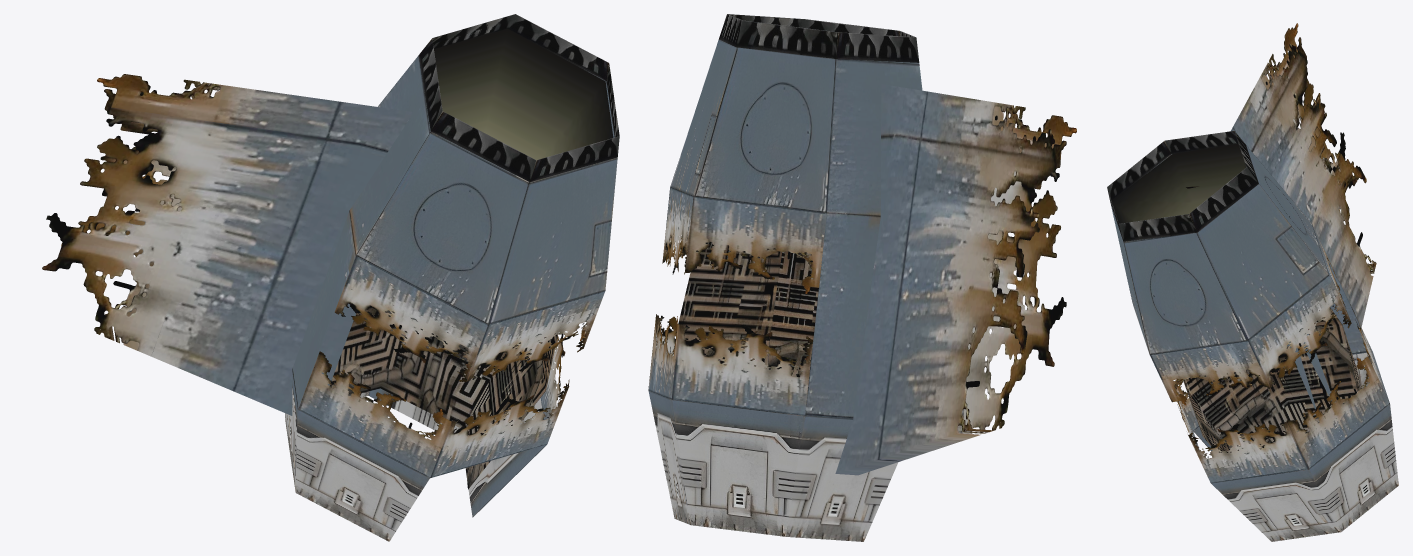
Rendered from crashengine_hdtex.glb.
3 views of the same model, side by side, from view 1: azimuth 30°, elevation 25°; view 2: azimuth 150°, elevation 25°; view 3: azimuth 270°, elevation 25° (orthographic). The views are drawn at different scales.
Parts seen in each view (by area): view 1: Crash Engine; view 2: Crash Engine; view 3: Crash Engine.
Boxes of the visible parts, bbox=[...] form: Crash Engine: bbox=[42, 14, 619, 541]; Crash Engine: bbox=[648, 14, 1076, 541]; Crash Engine: bbox=[1107, 23, 1398, 541].
Size of the model in its own units: 23.46 by 24.01 by 16.02.
5 materials, 5 textured.
